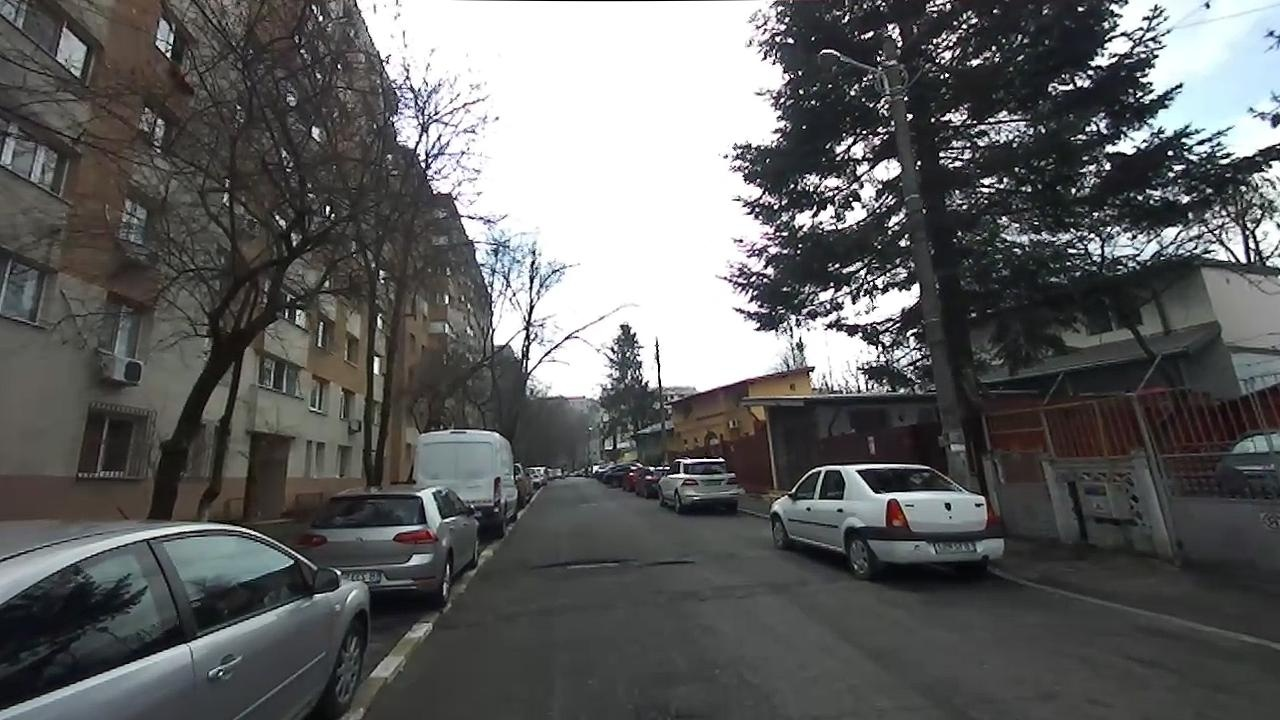pothole: (537, 557, 619, 570), (644, 559, 693, 566)
